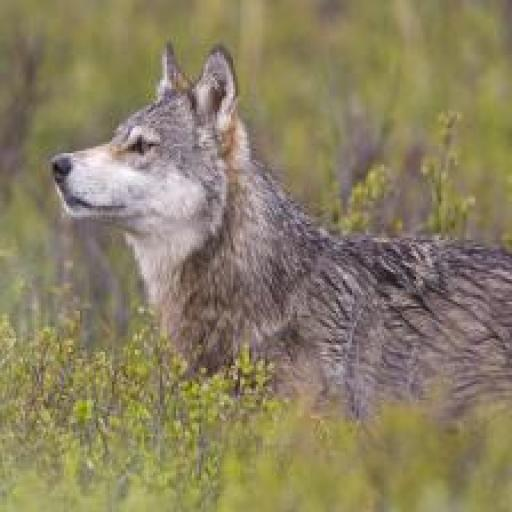wolf: (50, 36, 512, 462)
